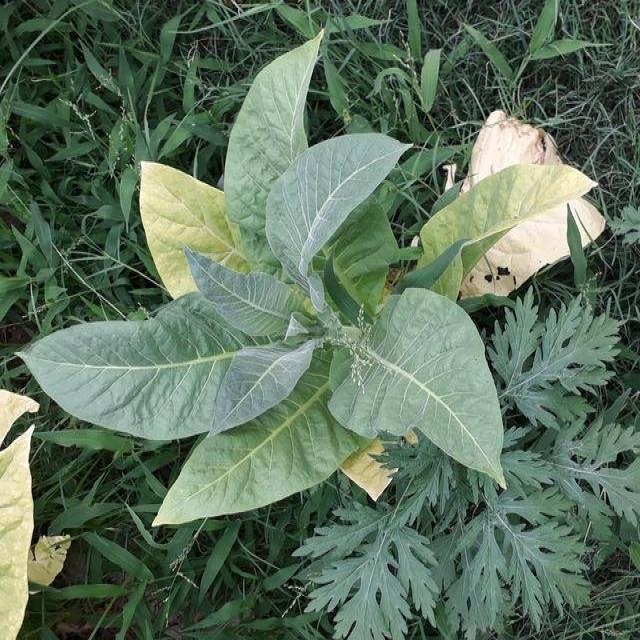crop: (31, 48, 608, 512)
